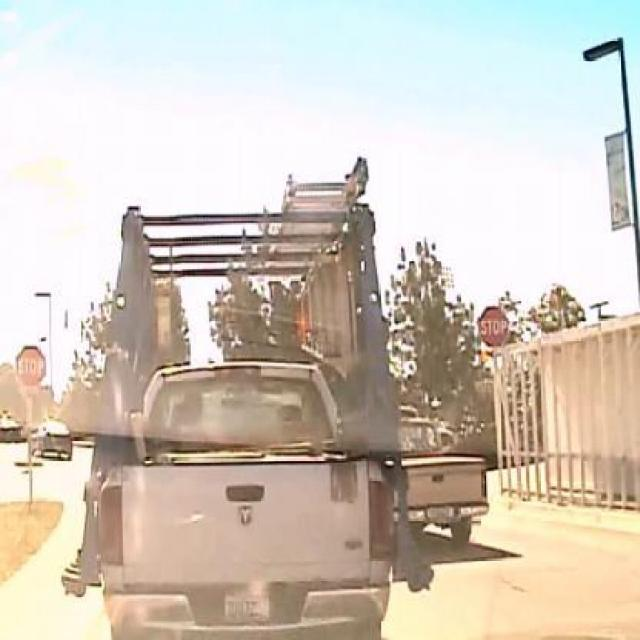Stop: (477, 305, 512, 352), (17, 347, 46, 385)
